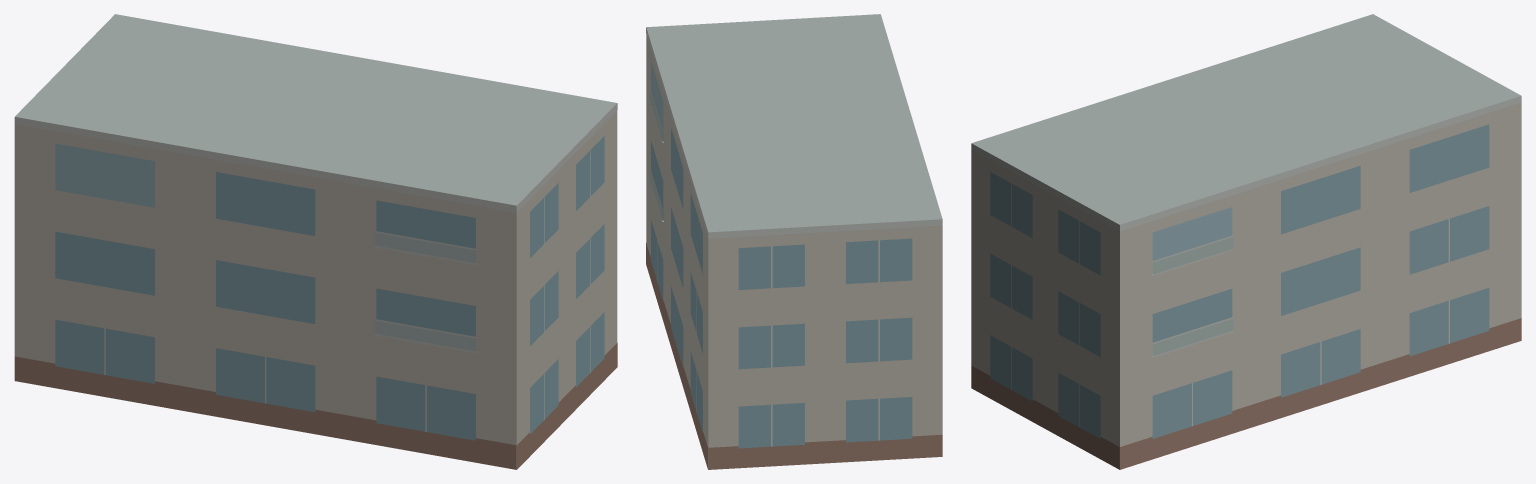
The model's file is survey-upis-32802308.glb.
3 views of the same model, side by side, from view 1: azimuth 30°, elevation 25°; view 2: azimuth 150°, elevation 25°; view 3: azimuth 270°, elevation 25° (orthographic). The views are drawn at different scales.
Parts seen in each view (by area): view 1: survey-upis-32802308.tmp; view 2: survey-upis-32802308.tmp; view 3: survey-upis-32802308.tmp.
Boxes of the visible parts, bbox=[...] form: survey-upis-32802308.tmp: bbox=[14, 14, 617, 469]; survey-upis-32802308.tmp: bbox=[646, 14, 942, 469]; survey-upis-32802308.tmp: bbox=[971, 14, 1521, 469].
Size of the model in its own units: 16.91 by 9.15 by 18.64.
